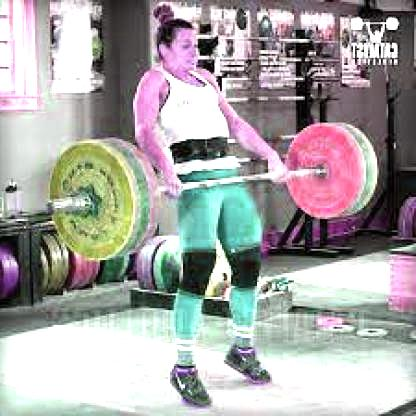Barbell: (41, 199, 59, 218)
